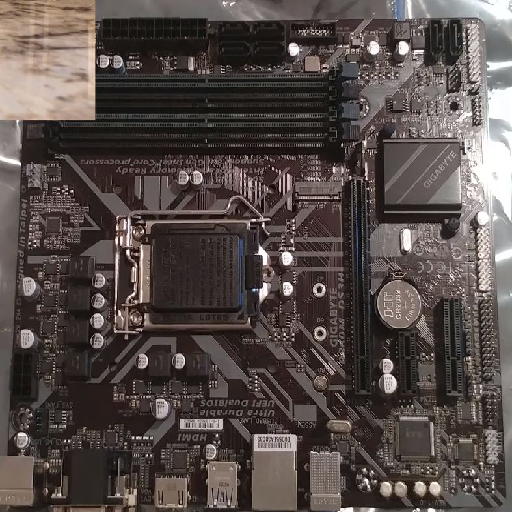CPU: (117, 214, 276, 332)
GPU: (342, 176, 376, 400)
MOTHERBOARD: (8, 12, 506, 510)
RAM: (20, 61, 365, 154)
SSD: (294, 178, 342, 201)
